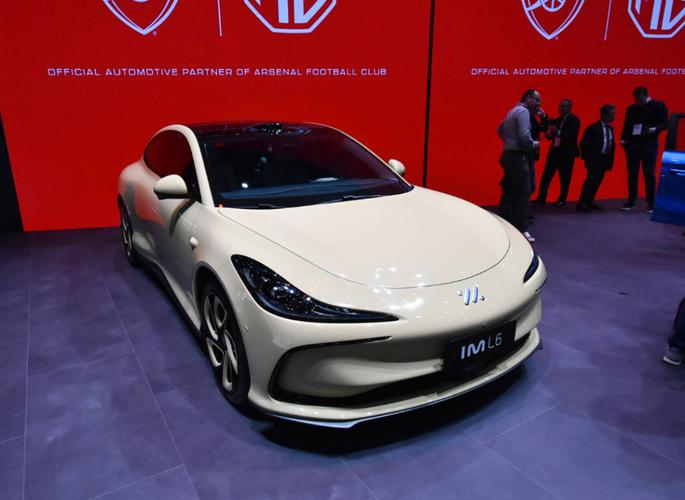汽车: (109, 116, 555, 449)
